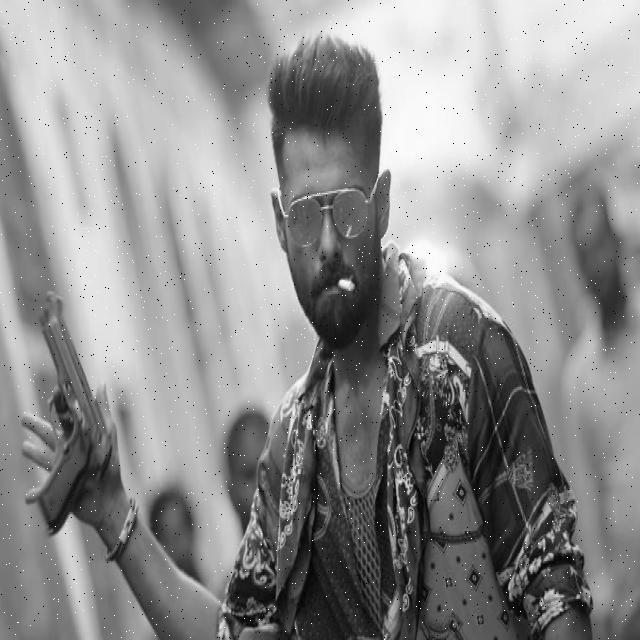gun: (27, 280, 120, 546)
